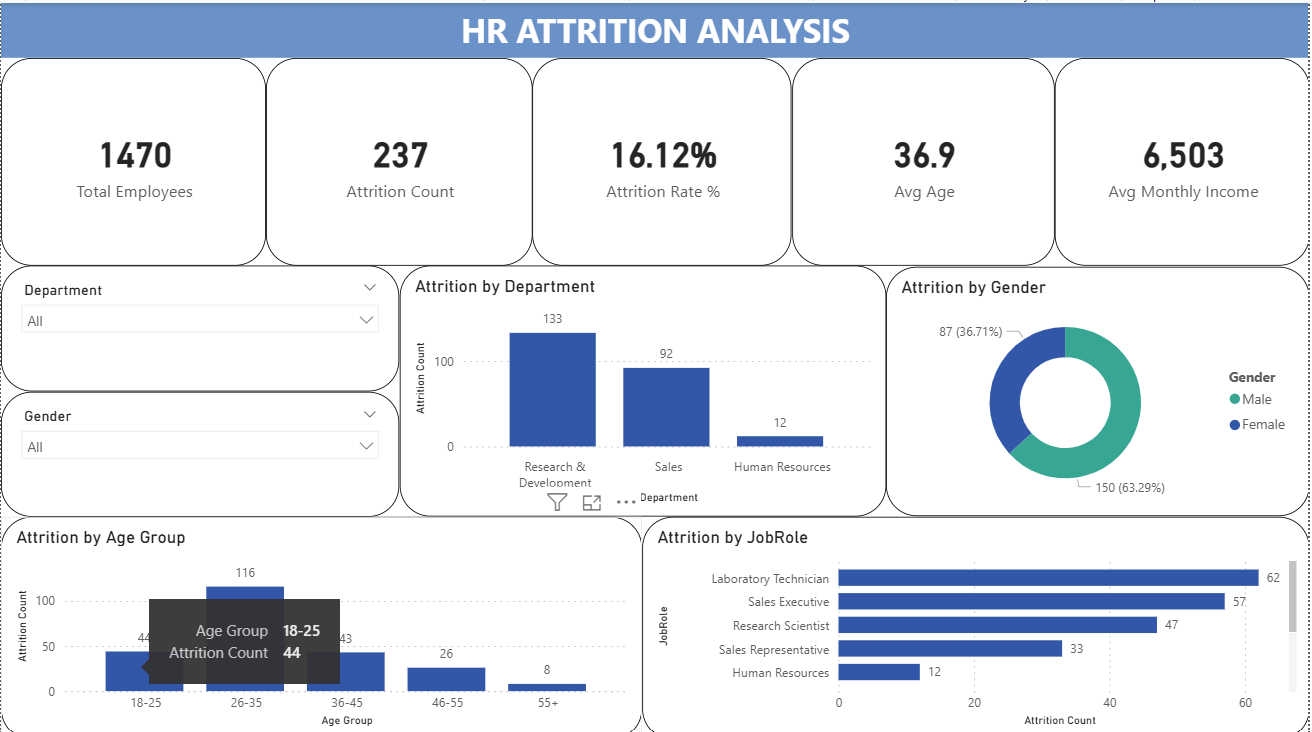

This screenshot's page, from the dashboard's own definition file:
{"tool":"powerbi","page":{"name":"Overview","canvas":[1280,720],"ordinal":0},"visuals":[{"type":"textbox","box":[0,0,1280.3,53.5],"z":0},{"type":"card","fields":{"Values":["HR.Total Employees"]},"box":[0,53.5,259.3,203.1],"z":1000},{"type":"card","fields":{"Values":["HR.Attrition Rate %"]},"box":[520.1,53.5,253.9,203.1],"z":2000},{"type":"card","fields":{"Values":["HR.Avg Age"]},"box":[773.9,53.5,256.6,203.1],"z":3000},{"type":"card","fields":{"Values":["HR.Avg Monthly Income"]},"box":[1030.5,53.5,249.7,203.1],"z":4000},{"type":"card","fields":{"Values":["HR.Attrition Count"]},"box":[259.3,53.5,260.7,203.1],"z":5000},{"type":"slicer","fields":{"Values":["HR.Department"]},"box":[0,256.6,389.7,123.5],"z":6000},{"type":"slicer","fields":{"Values":["HR.Gender"]},"box":[0,380.1,389.7,122.1],"z":7000},{"type":"clusteredColumnChart","title":"Attrition by Department","fields":{"Category":["HR.Department"],"Y":["HR.Attrition Count"]},"box":[389.7,256.6,476.2,245.6],"z":8000},{"type":"clusteredColumnChart","title":"Attrition by Age Group","fields":{"Category":["HR.Age Group"],"Y":["HR.Attrition Count"]},"box":[0,502.2,627.1,218.2],"z":9000},{"type":"donutChart","title":"Attrition by Gender","fields":{"Category":["HR.Gender"],"Y":["HR.Attrition Count"]},"box":[865.9,258,414.4,244.3],"z":10000},{"type":"clusteredBarChart","title":"Attrition by JobRole","fields":{"Category":["HR.JobRole"],"Y":["HR.Attrition Count"]},"box":[627.1,502.2,653.2,218.2],"z":11000}]}

Visuals, with their boxes in screenshot pixels (x1, y1, x2, y2), scaled from the page's 1280x720 canvas onto the 1312x732 screenshot:
textbox: [0,0,1311,54]
card - HR.Total Employees: [0,54,266,261]
card - HR.Attrition Rate %: [533,54,793,261]
card - HR.Avg Age: [793,54,1056,261]
card - HR.Avg Monthly Income: [1056,54,1311,261]
card - HR.Attrition Count: [266,54,533,261]
slicer - HR.Department: [0,261,399,386]
slicer - HR.Gender: [0,386,399,511]
"Attrition by Department" clusteredColumnChart: [399,261,888,511]
"Attrition by Age Group" clusteredColumnChart: [0,511,643,731]
"Attrition by Gender" donutChart: [888,262,1311,511]
"Attrition by JobRole" clusteredBarChart: [643,511,1311,731]
